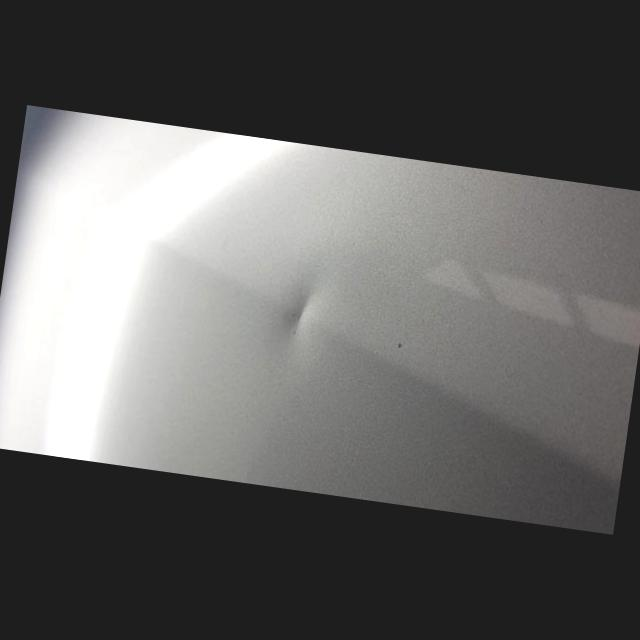dent: (287, 282, 325, 340)
